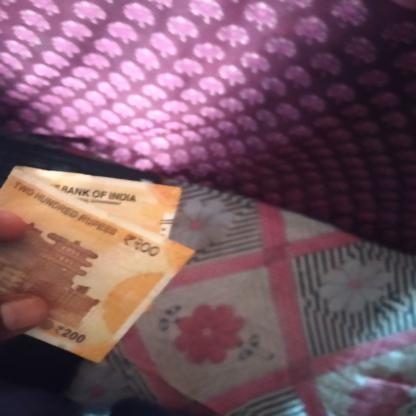New200Back: (0, 174, 162, 351)
